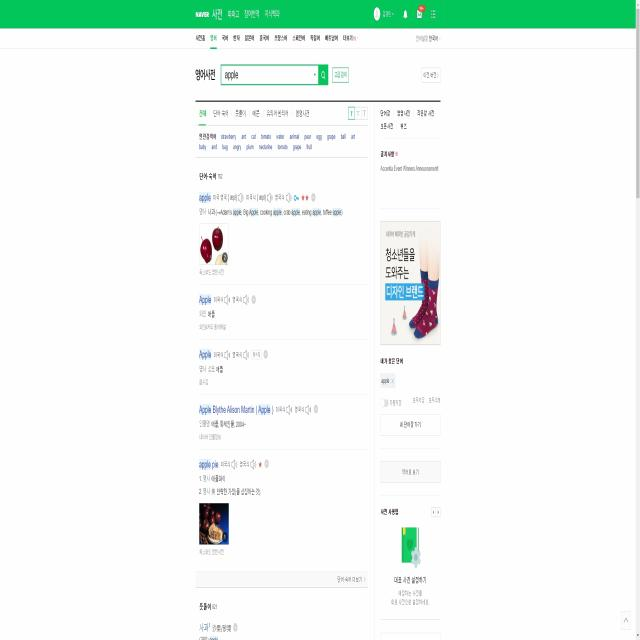menu-bar: (372, 1, 441, 26)
search: (218, 61, 329, 89)
side-panel: (374, 102, 444, 640)
tab-bar: (194, 29, 358, 47), (198, 101, 312, 126), (194, 5, 284, 22)
